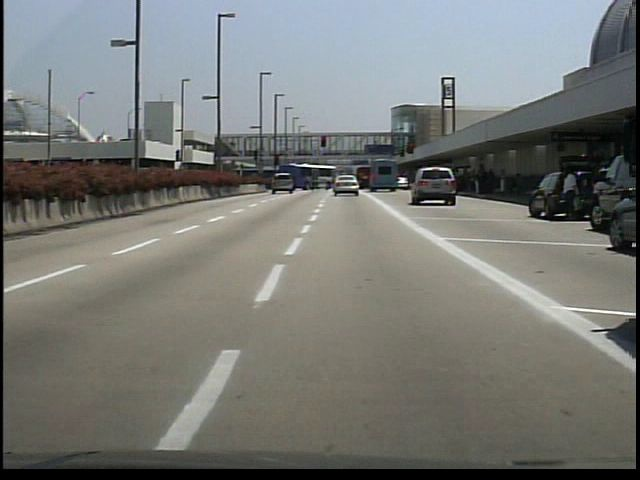person: (559, 169, 581, 222)
